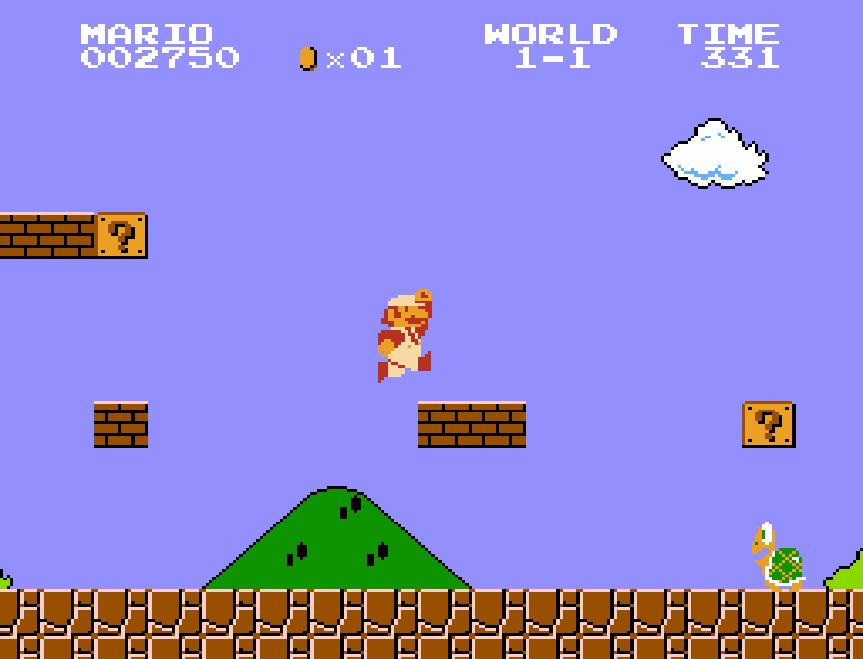fire_mario: (376, 286, 434, 384)
